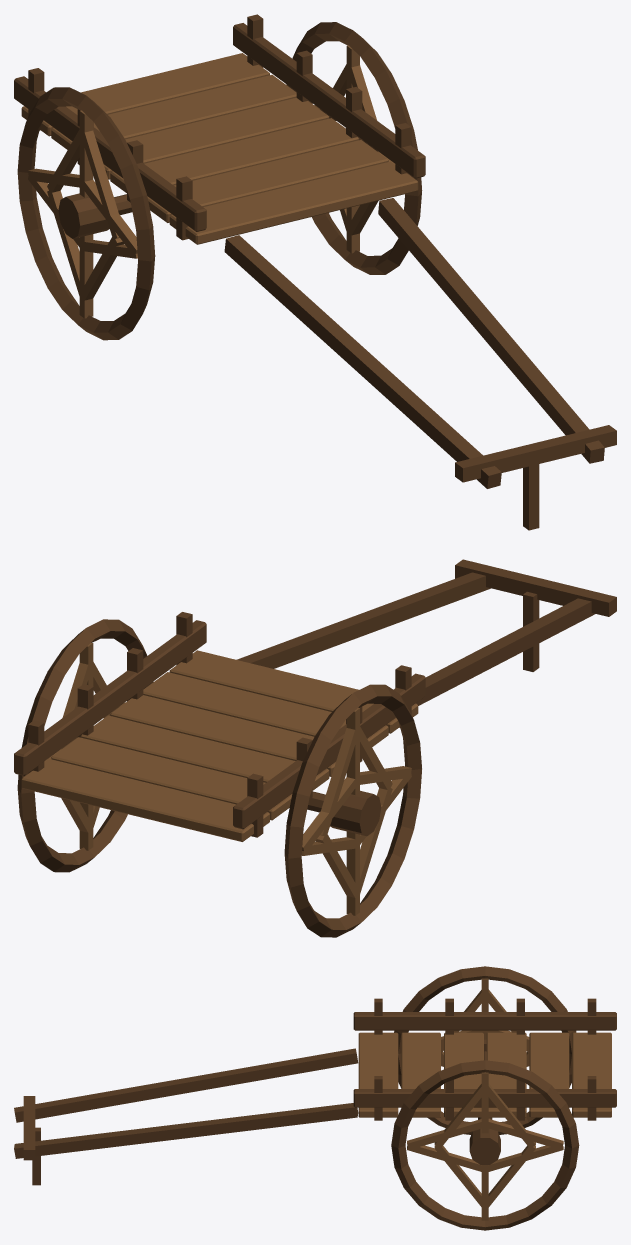
The model's file is cart.glb.
The picture shows the model from 3 angles, top to bottom: view 1: azimuth 30°, elevation 25°; view 2: azimuth 150°, elevation 25°; view 3: azimuth 270°, elevation 25°; orthographic projection. The views are drawn at different scales.
Parts seen in each view (by area): view 1: cart; view 2: cart; view 3: cart.
Part boxes in pixels (x1=…): cart: x1=14, y1=14, x2=616, y2=530; cart: x1=14, y1=559, x2=616, y2=937; cart: x1=14, y1=966, x2=616, y2=1230.
Size of the model in its own units: 1.76 by 1.32 by 4.23.
